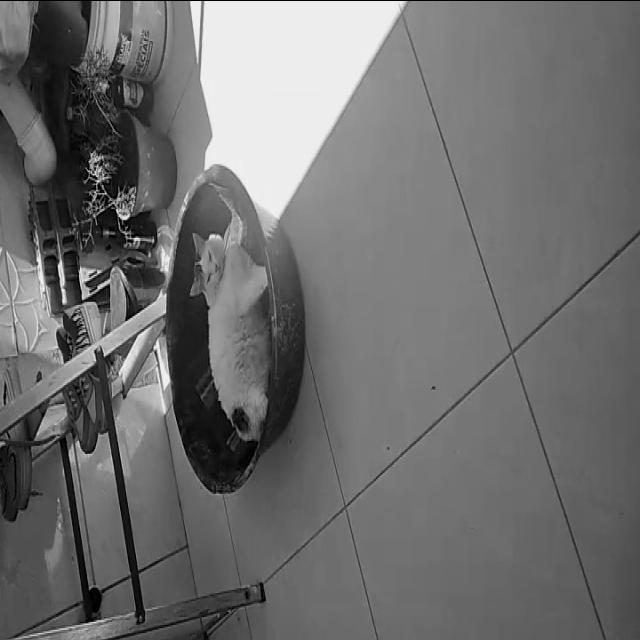Simba: (184, 200, 266, 454)
